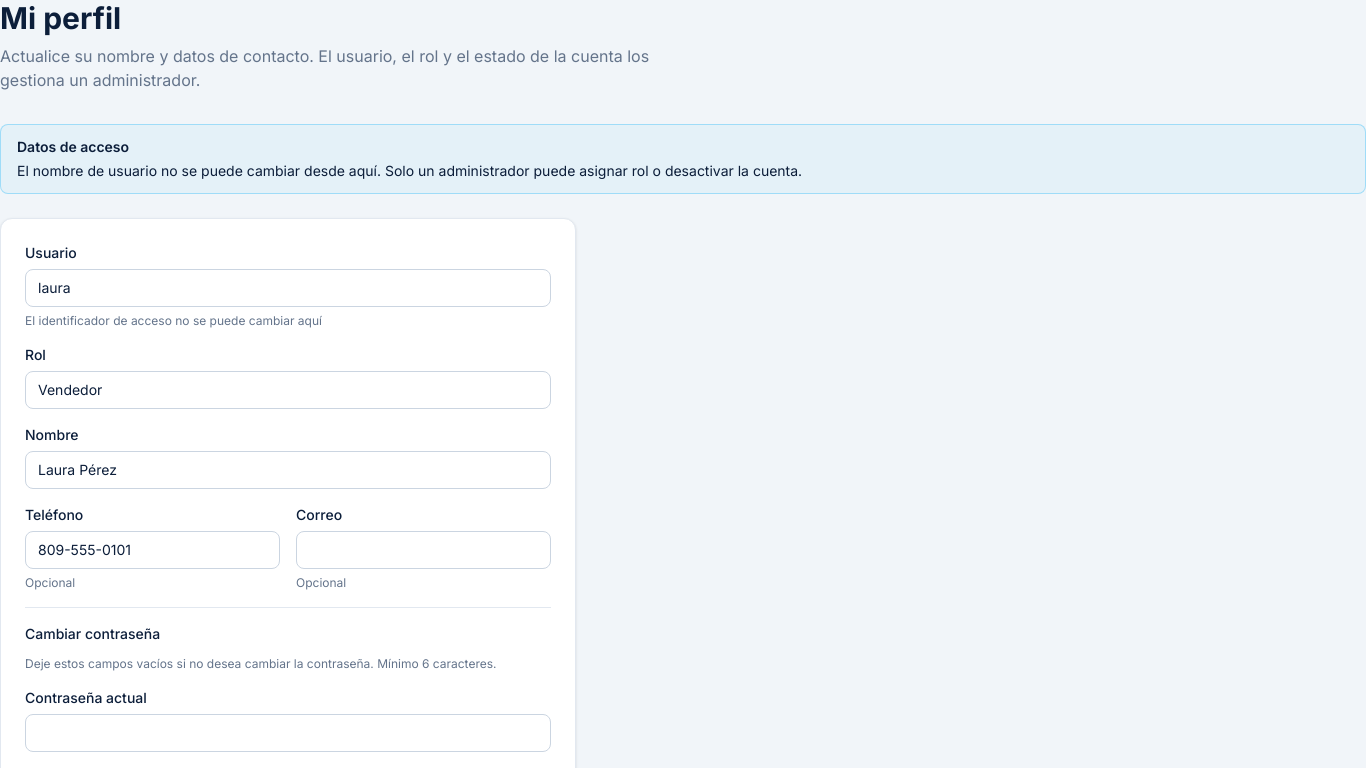
Test case: ProfilePage › shows username and role as read-only and submits contact changes
The width and height of the screenshot is (1366, 768).
Expected: the field labelled "Usuario" is disabled, top-left (25, 269), bottom-right (551, 307)
Expected: the field labelled "Usuario" holds "laura", top-left (25, 269), bottom-right (551, 307)
Replace the text in the field labelled "Teléfono" with "809-555-8888": (152, 550) top-left (25, 531), bottom-right (280, 569)
(page scrolled)
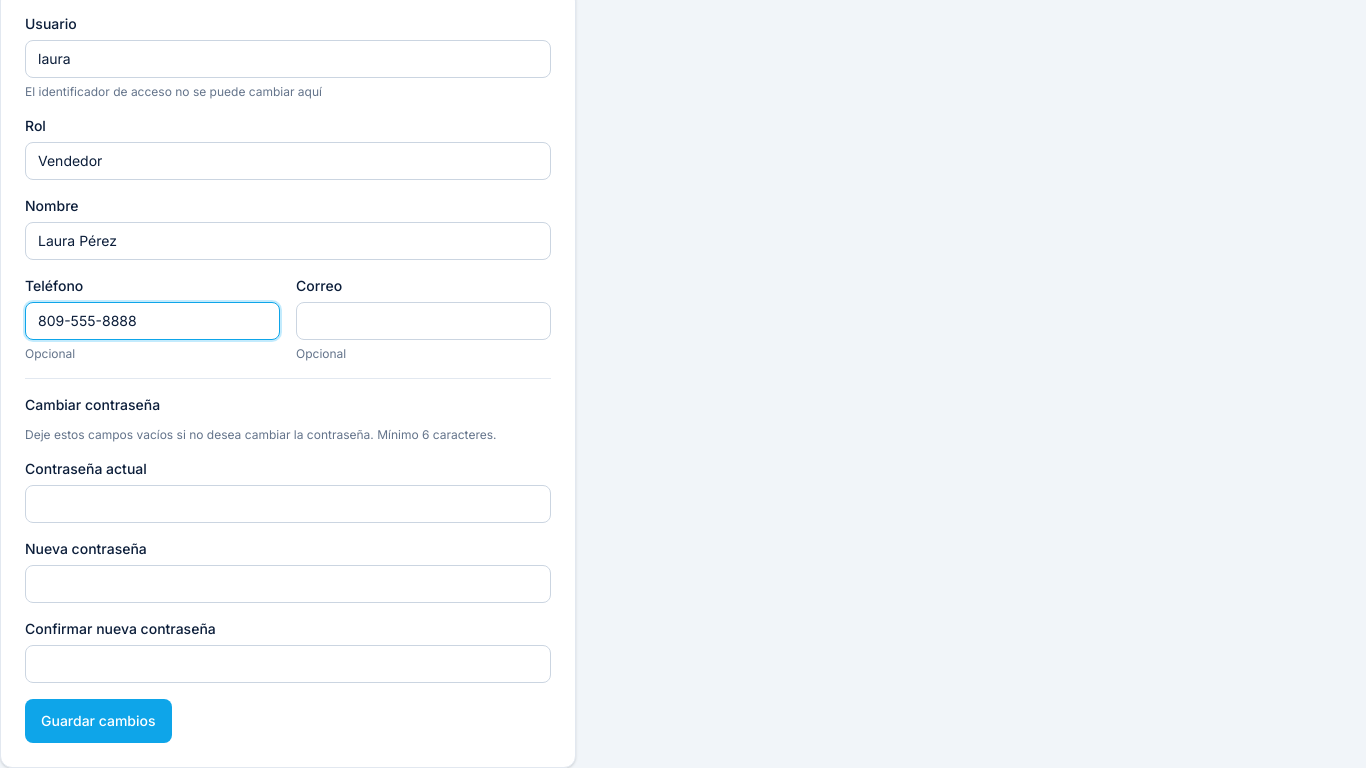
Click the button "Guardar cambios": (98, 721) top-left (25, 699), bottom-right (172, 743)
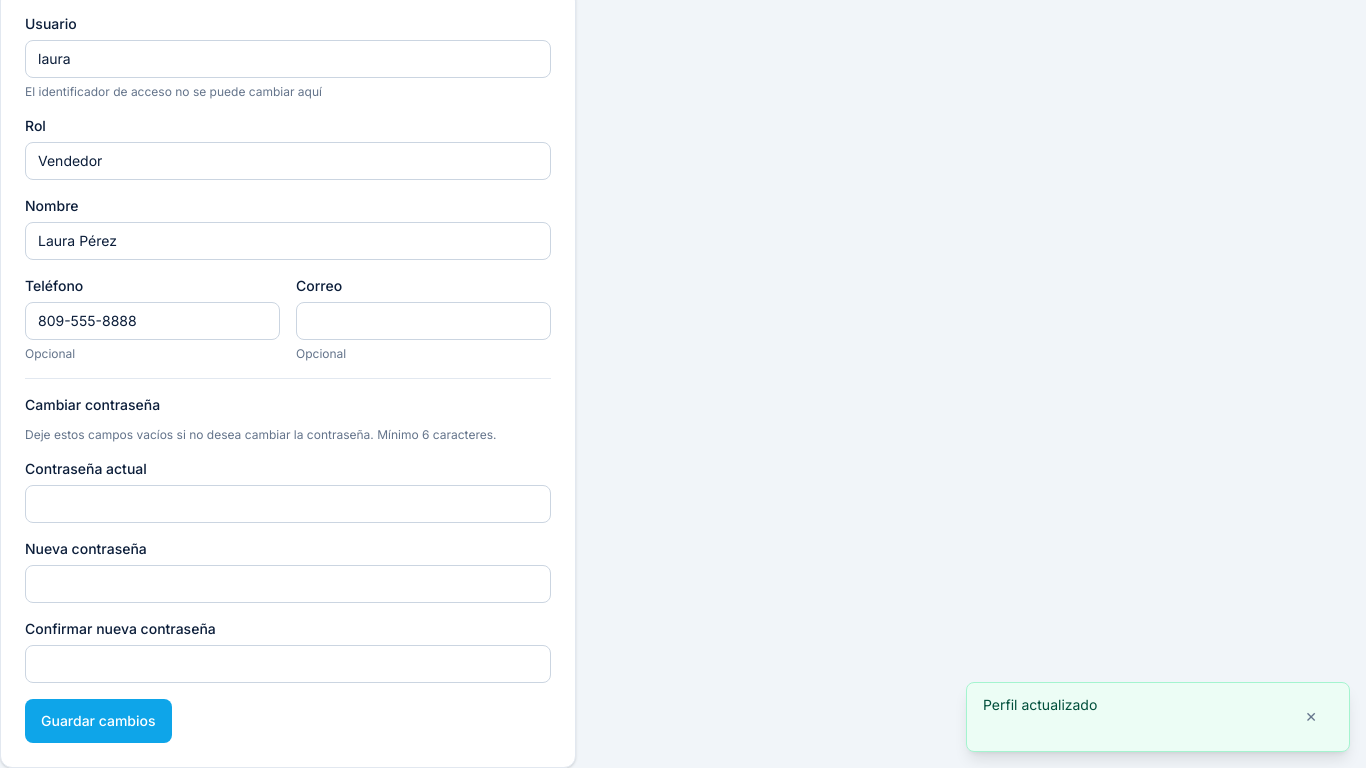
Now the text "Perfil actualizado" is shown, box top-left (983, 696), bottom-right (1097, 713)
